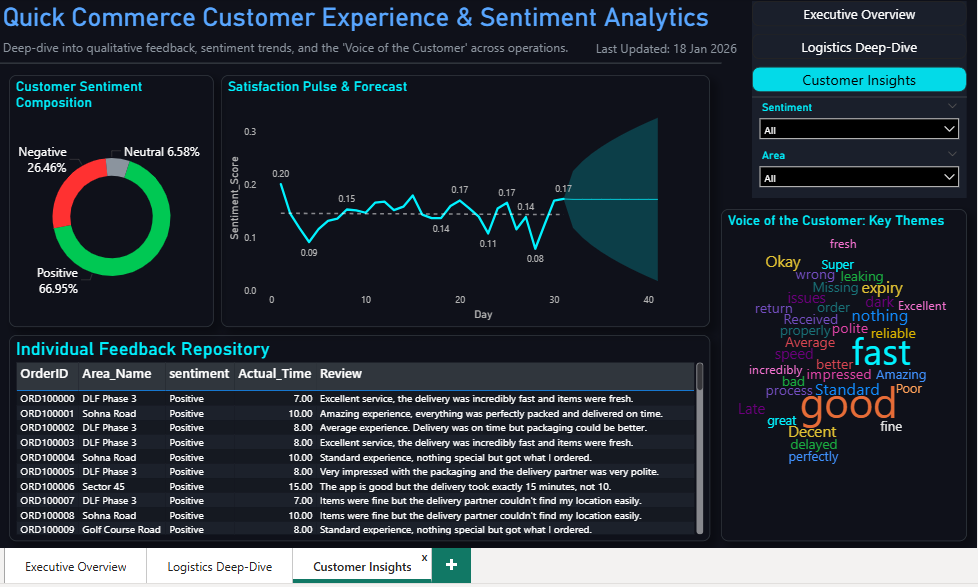

The dashboard page shown, as its layout file describes it:
{"tool":"powerbi","page":{"name":"Customer Insights","canvas":[1280,720],"ordinal":2},"visuals":[{"type":"textbox","box":[0,0,946.1,51.8],"z":0},{"type":"shape","box":[0,68.9,945.7,31.9],"z":1000},{"type":"card","fields":{"Values":["Measure.Last Updated"]},"box":[761.8,47.5,223.2,41.8],"z":2000},{"type":"lineChart","title":"Satisfaction Pulse & Forecast","fields":{"Y":["Avg(major_quick_commerece_db fact_orders.Sentiment_Score)"],"Category":["major_quick_commerece_db fact_orders.OrderDate.Variation.Date Hierarchy.Day"]},"box":[290.6,100.8,640.1,329.9],"z":3000},{"type":"WordCloud1447959067750","title":"Voice of the Customer: Key Themes","fields":{"Values":["CountNonNull(major_quick_commerece_db fact_orders.OrderID)"],"Category":["major_quick_commerece_db fact_orders.Review"]},"box":[945.2,276.2,322,434.6],"z":4000},{"type":"donutChart","title":"Customer Sentiment Composition","fields":{"Y":["Measure.Total Orders"],"Category":["major_quick_commerece_db fact_orders.sentiment"]},"box":[13.1,100.8,268.4,329.9],"z":5000},{"type":"tableEx","title":"Individual Feedback Repository","fields":{"Values":["major_quick_commerece_db fact_orders.OrderID","major_quick_commerece_db dim_areas.Area_Name","major_quick_commerece_db fact_orders.sentiment","major_quick_commerece_db fact_orders.Actual_Time","major_quick_commerece_db fact_orders.Review"]},"box":[13.1,441.2,917.7,269.7],"z":6000},{"type":"textbox","box":[0,49,761.8,36],"z":7000},{"type":"shape","box":[985.7,3.9,281.5,257.9],"z":8000},{"type":"pageNavigator","box":[985.7,3.9,281.5,121.7],"z":9000},{"type":"slicer","fields":{"Values":["major_quick_commerece_db fact_orders.sentiment"]},"box":[985.7,129.6,281.5,62.8],"z":10000},{"type":"slicer","fields":{"Values":["major_quick_commerece_db dim_areas.Area_Name"]},"box":[985.7,192.4,281.5,64.1],"z":11000},{"type":"shape","box":[985.7,113.9,281.5,31.4],"z":12000}]}

Visuals, with their boxes on the page's 1280x720 design canvas (x1, y1, x2, y2). These are canvas units, not pixel positions in the 978x587 screenshot, which may show the page scaled, cropped or inside an application window:
textbox: BBox(0, 0, 946, 52)
shape: BBox(0, 69, 946, 101)
card - Measure.Last Updated: BBox(762, 48, 985, 89)
"Satisfaction Pulse & Forecast" lineChart: BBox(291, 101, 931, 431)
"Voice of the Customer: Key Themes" WordCloud1447959067750: BBox(945, 276, 1267, 711)
"Customer Sentiment Composition" donutChart: BBox(13, 101, 282, 431)
"Individual Feedback Repository" tableEx: BBox(13, 441, 931, 711)
textbox: BBox(0, 49, 762, 85)
shape: BBox(986, 4, 1267, 262)
pageNavigator: BBox(986, 4, 1267, 126)
slicer - major_quick_commerece_db fact_orders.sentiment: BBox(986, 130, 1267, 192)
slicer - major_quick_commerece_db dim_areas.Area_Name: BBox(986, 192, 1267, 256)
shape: BBox(986, 114, 1267, 145)
